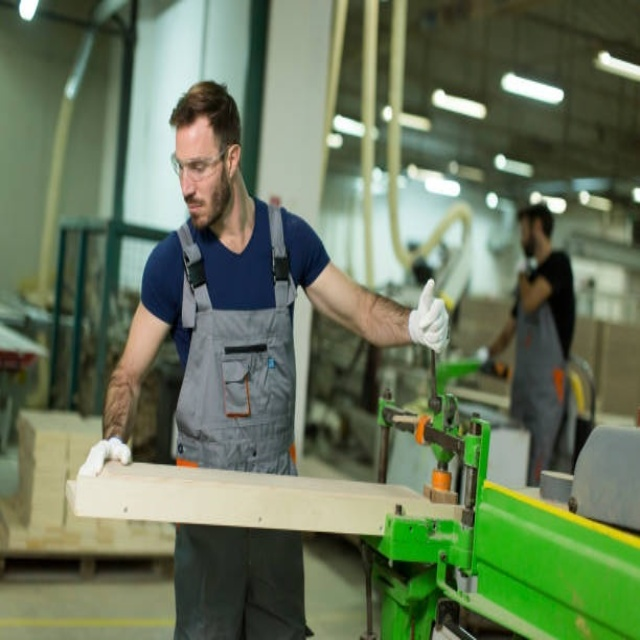Gafas: (171, 146, 232, 180)
Guantes: (407, 278, 450, 355), (74, 433, 132, 478)
Sin_mascara: (184, 195, 206, 224)
